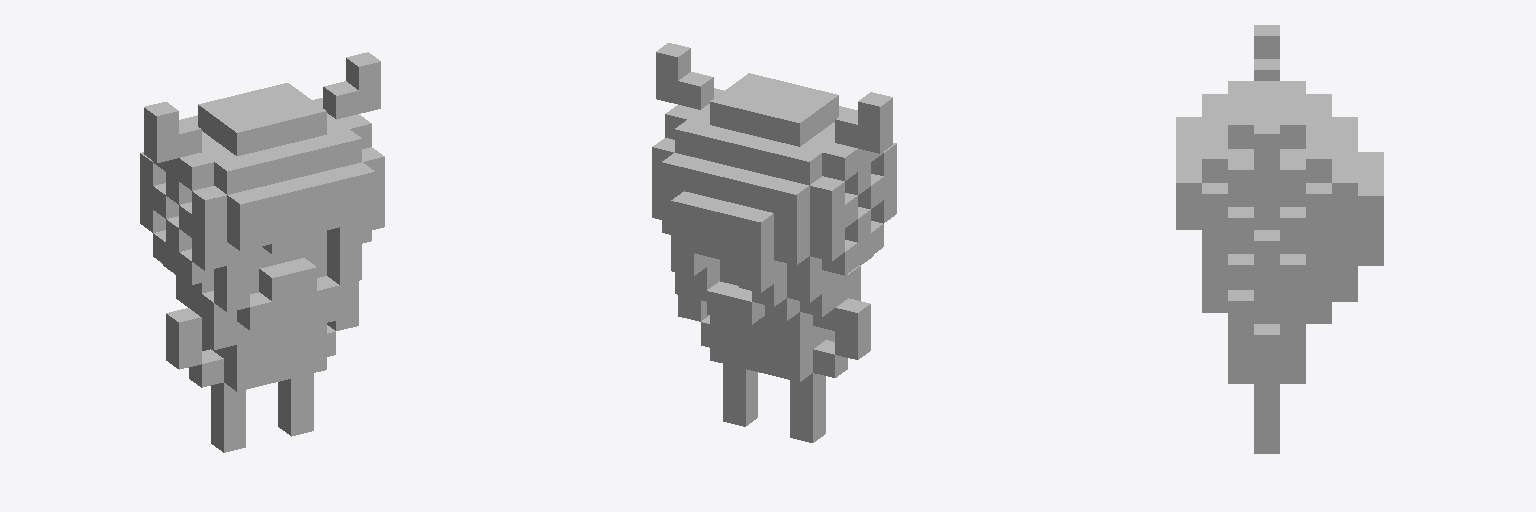
Rendered from Pessoa 1.obj.
3 views of the same model, side by side, from view 1: azimuth 30°, elevation 25°; view 2: azimuth 150°, elevation 25°; view 3: azimuth 270°, elevation 25° (orthographic).
Parts seen in each view (by area): view 1: Pessoa 1; view 2: Pessoa 1; view 3: Pessoa 1.
Part boxes in pixels (bbox=[...]): Pessoa 1: bbox=[140, 52, 384, 452]; Pessoa 1: bbox=[652, 43, 896, 442]; Pessoa 1: bbox=[1176, 25, 1383, 453].
Bounding box in the file's own units: 10 × 15 × 8.